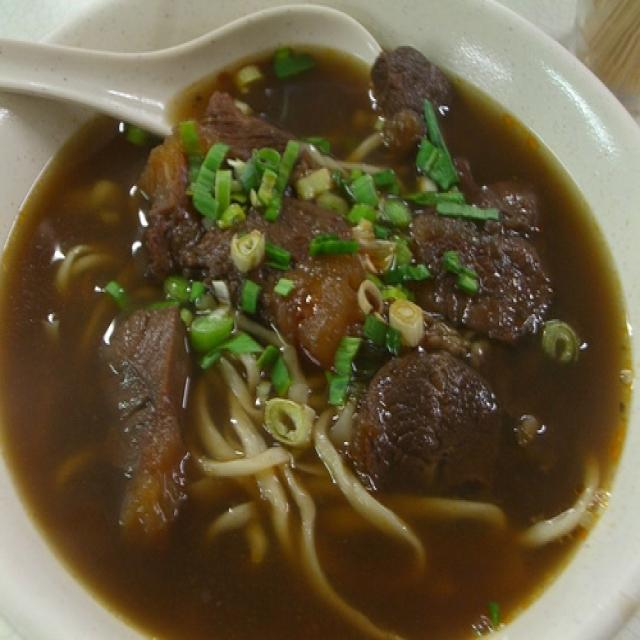面条主食: (22, 29, 609, 608)
